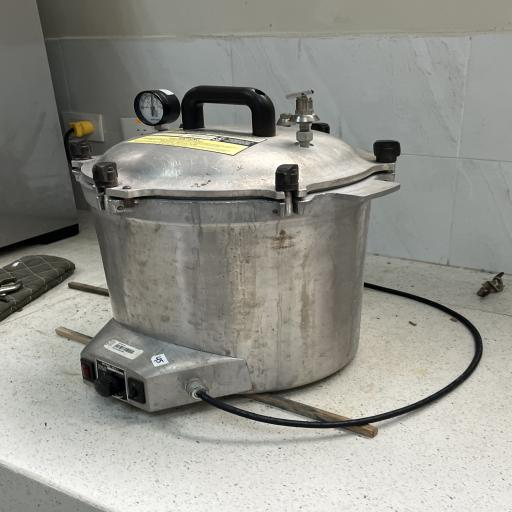Autoclave: (64, 79, 407, 420)
